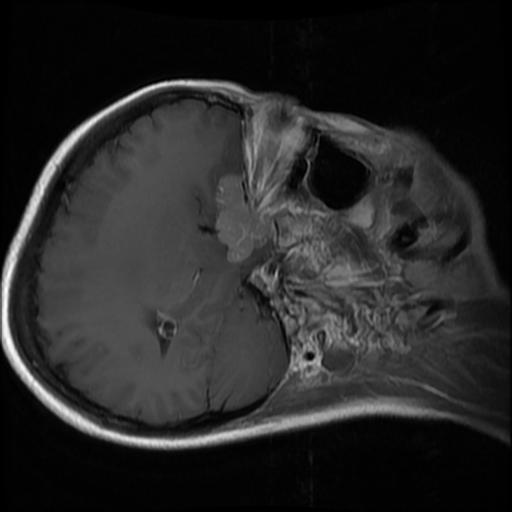meningioma: (213, 173, 270, 263)
